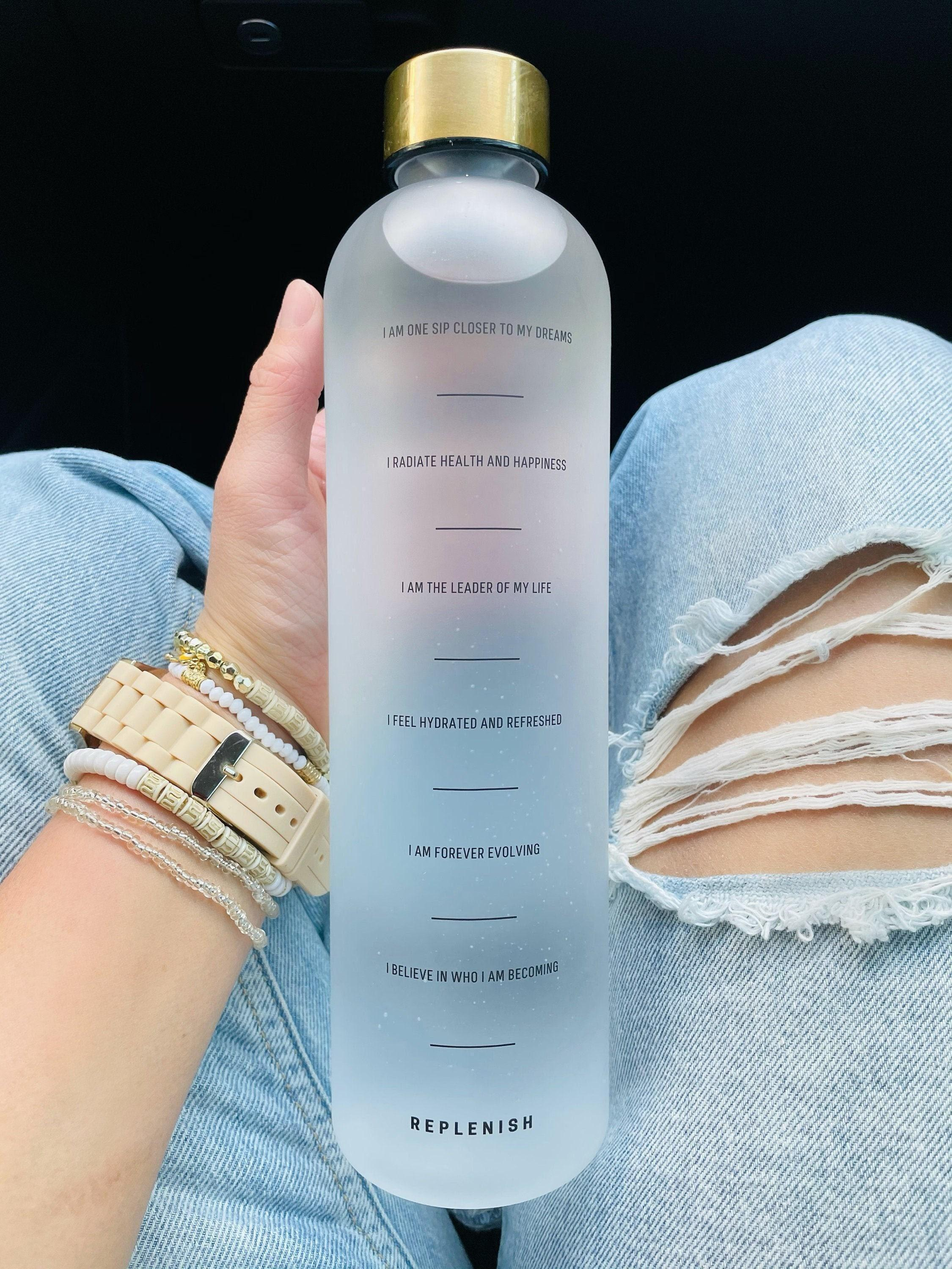gym bottle: (316, 43, 617, 1215)
